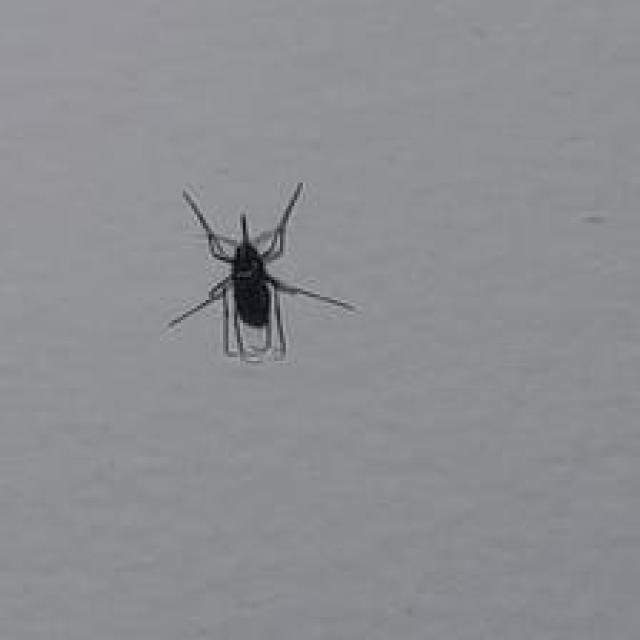Aedes albopictus: (166, 179, 357, 364)
